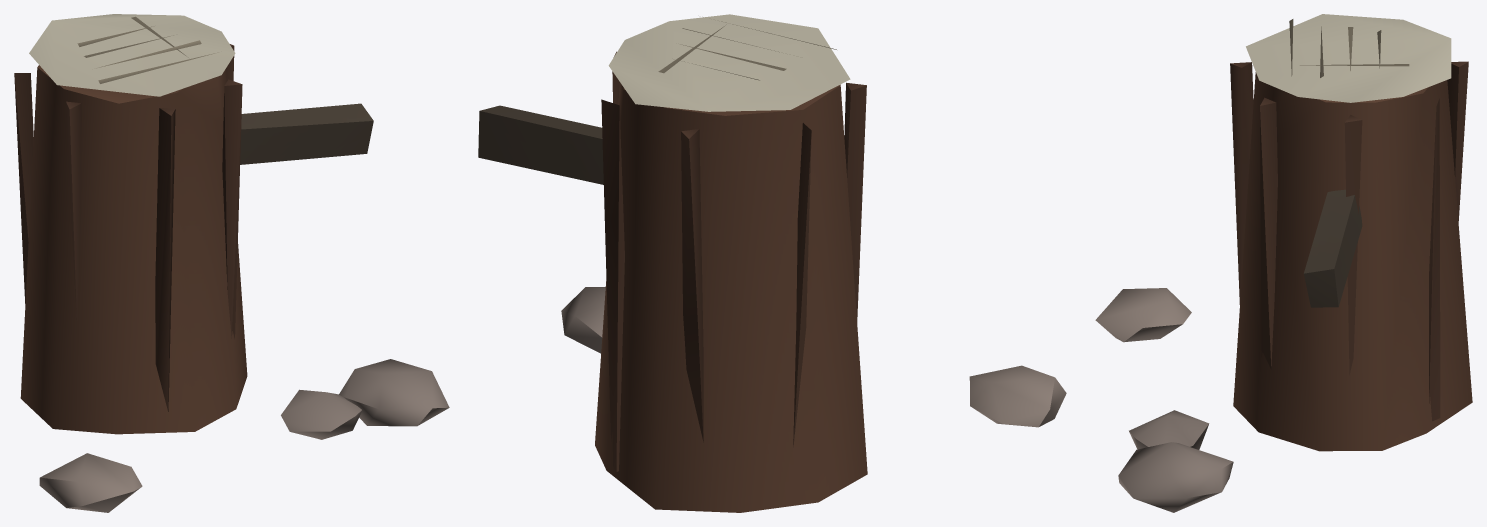
File: chart_post_a_lod2.glb
3 renders of one model, left to right at view 1: azimuth 30°, elevation 25°; view 2: azimuth 150°, elevation 25°; view 3: azimuth 270°, elevation 25°, orthographic. The views are drawn at different scales.
Visible parts, largest first — view 1: Surface.001; view 2: Surface.001; view 3: Surface.001.
Part boxes in pixels (x1,y1,x2,y2): Surface.001: [14, 14, 449, 512]; Surface.001: [478, 14, 1066, 512]; Surface.001: [1095, 14, 1472, 512].
Size of the model in its own units: 1.63 by 1.35 by 1.29.
